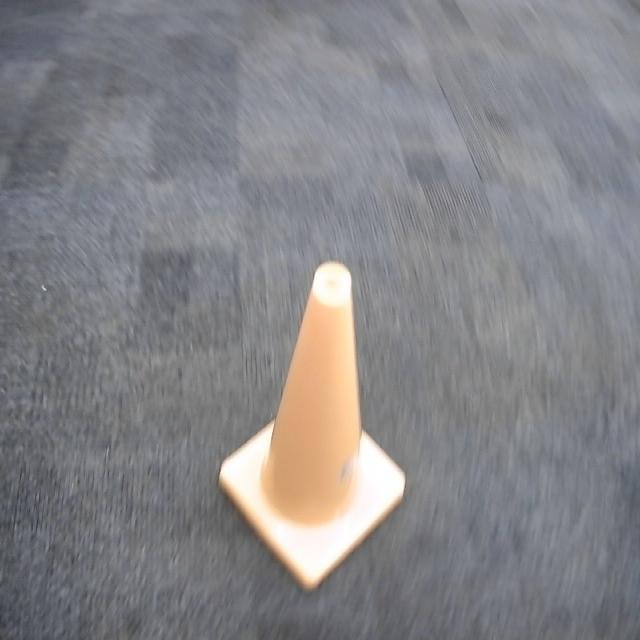cone: (219, 263, 408, 592)
